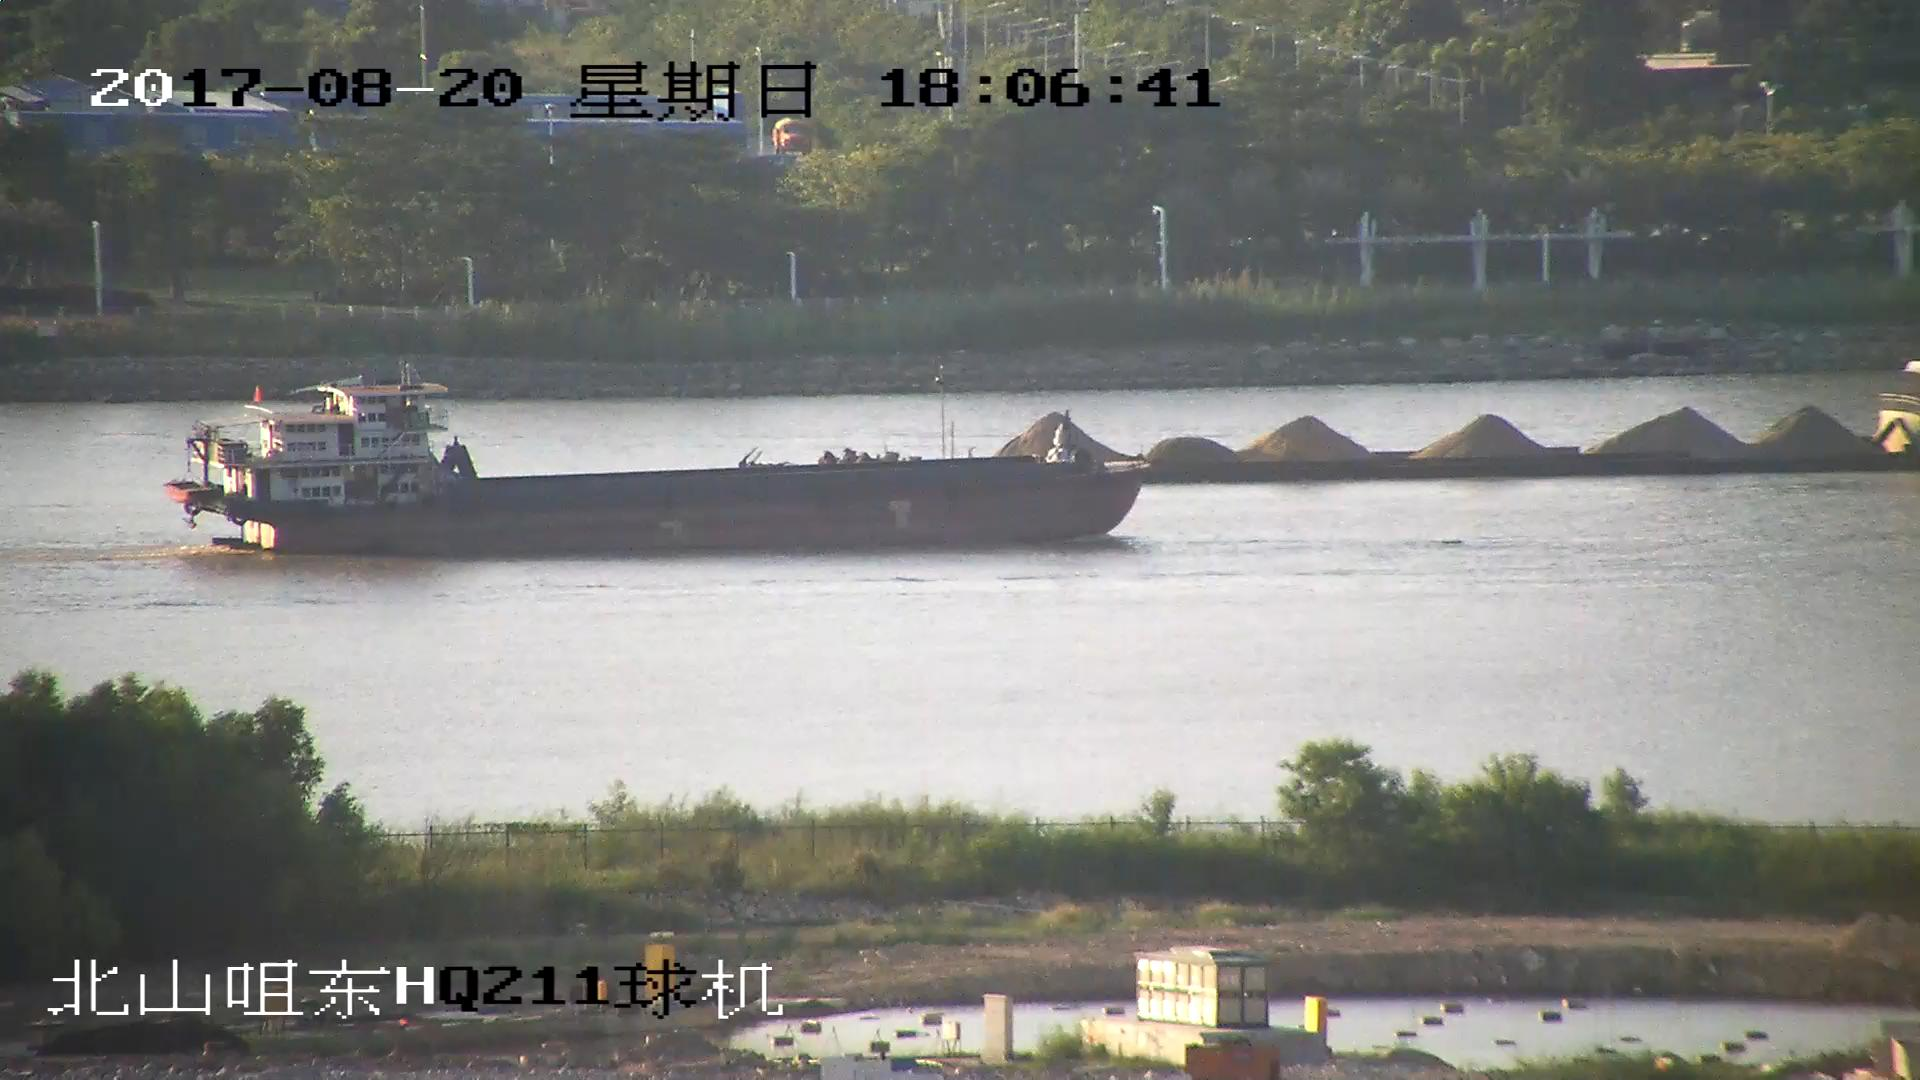bulk cargo carrier: (172, 382, 1151, 554)
ore carrier: (751, 359, 1920, 482)
